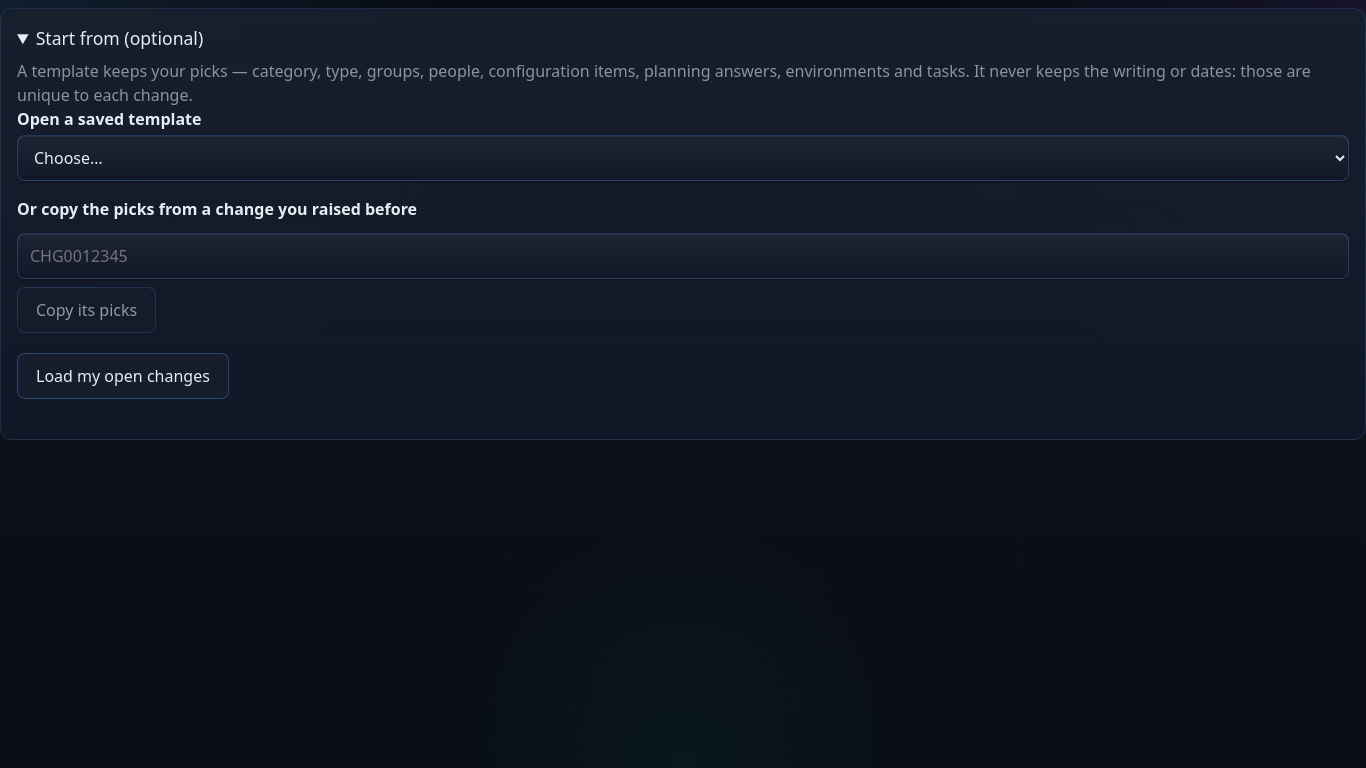
Test case: StartFromCard › opens a template’s picks only, links the job to it, and says so
Select "Monthly" in the dropdown labelled "Open a saved template" at point(683, 158), box [17, 135, 1349, 181]
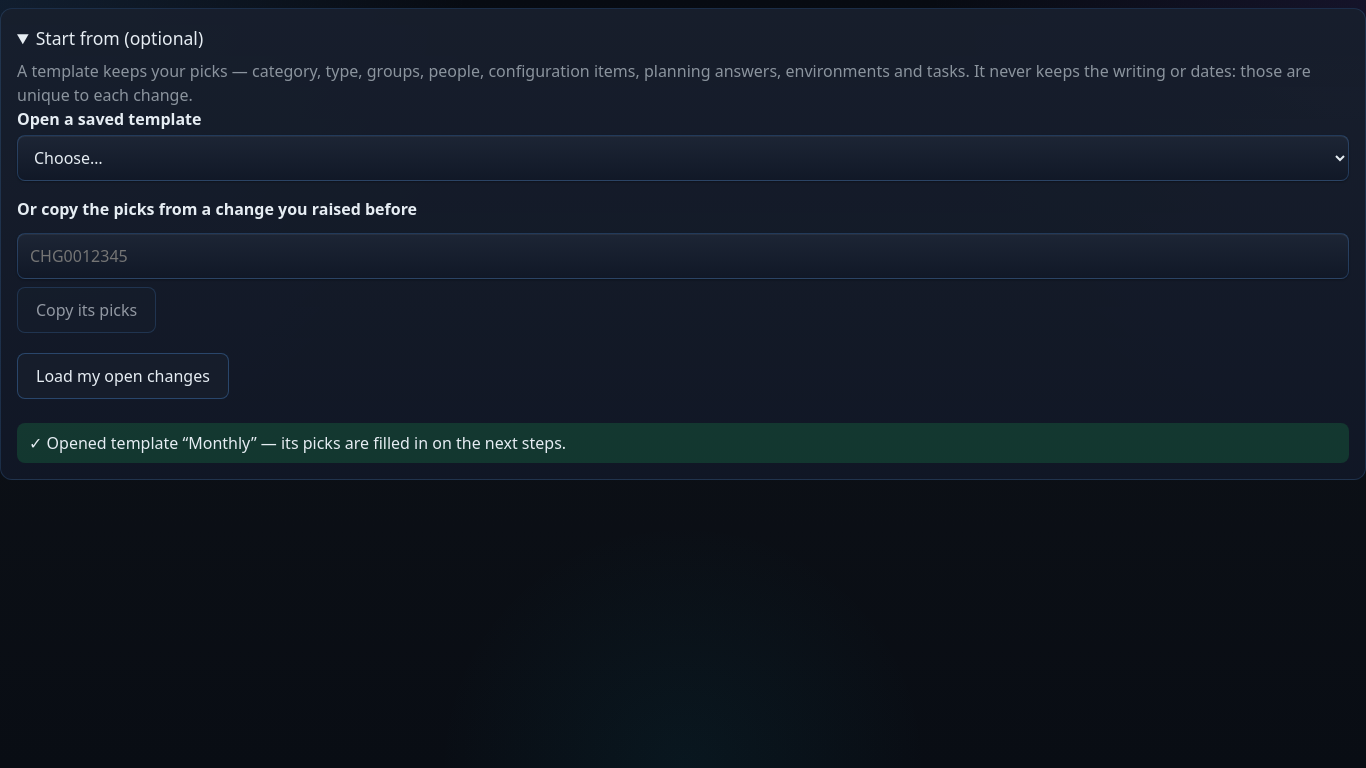
Expected: the message reads "✓ Opened template “Monthly” — its picks are filled in on the next steps.", [29, 432, 566, 454]
